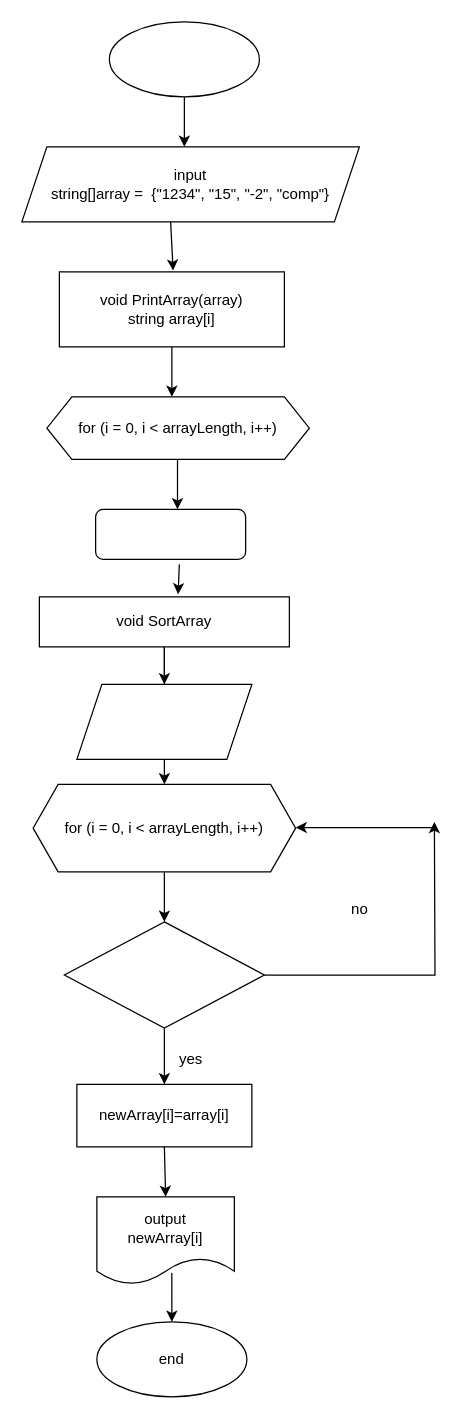
The diagram is 468 pixels wide and 1419 high, and some of its shapes have lost their labels. Each missing label, with the centre of its shape:
"if (Array[i].Length <= limit" goes at (x=163, y=974).
"input string newArray limit = 3" goes at (x=164, y=721).
"PrintArray(array[i])" goes at (x=170, y=533).
"start" goes at (x=183, y=59).
